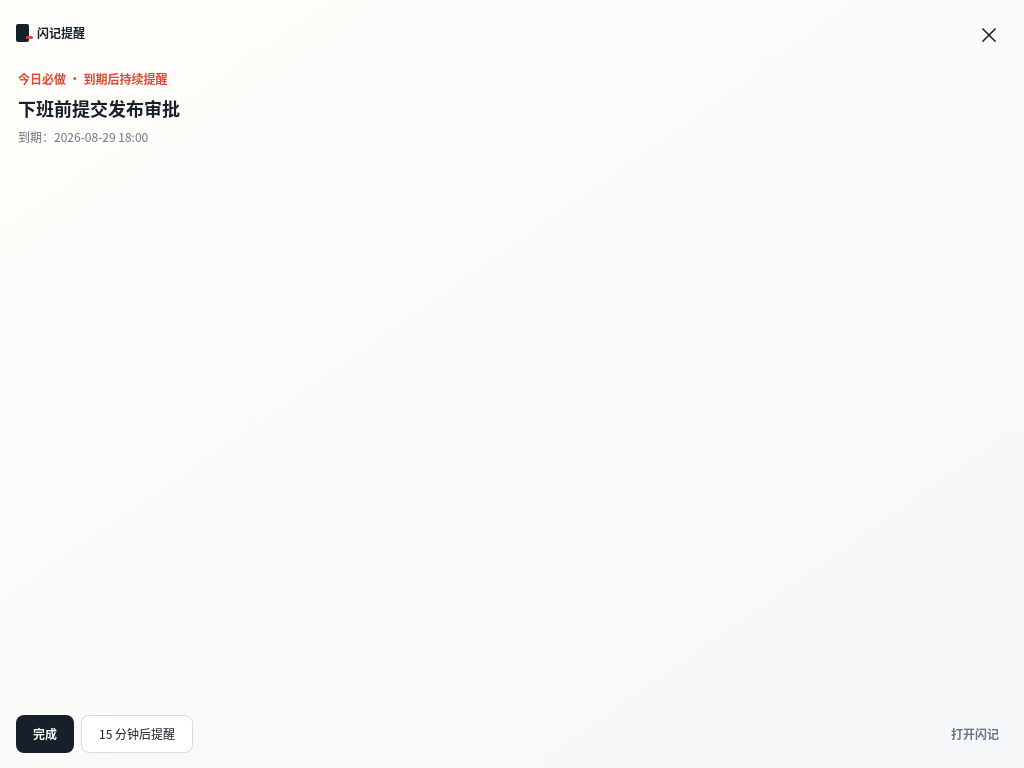
Scenario: ReminderView › hides before removing the current reminder and leaves an empty-state close action
Step 1. Click the button named "关闭本次提醒窗" → (989, 33), box [970,14,1008,52]
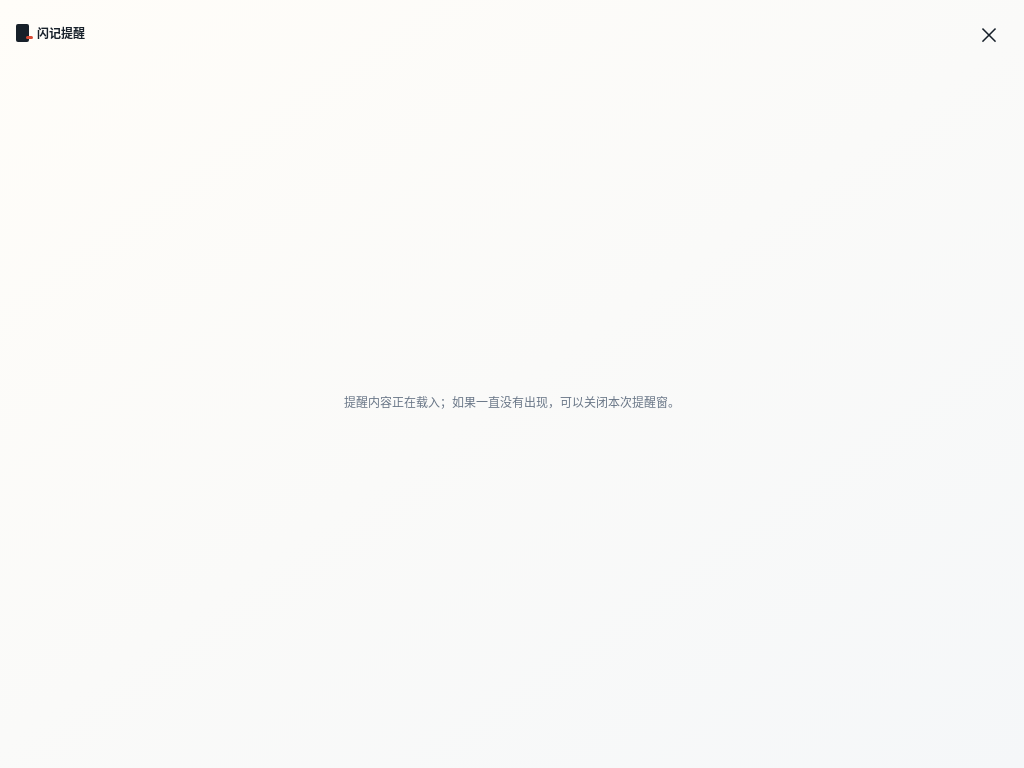
Result: the heading "下班前提交发布审批" is gone
Result: the text "提醒内容正在载入；如果一直没有出现，可以关闭本次提醒窗。" is shown at [344,393,680,412]
